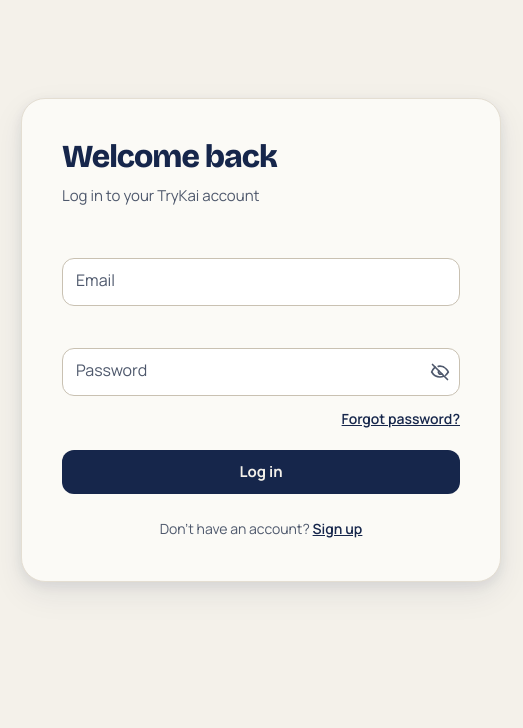
Test: Login form › keeps Sign up disabled until the terms checkbox is ticked
Click the button "Sign up" at [338, 529], box [313,519,362,538]
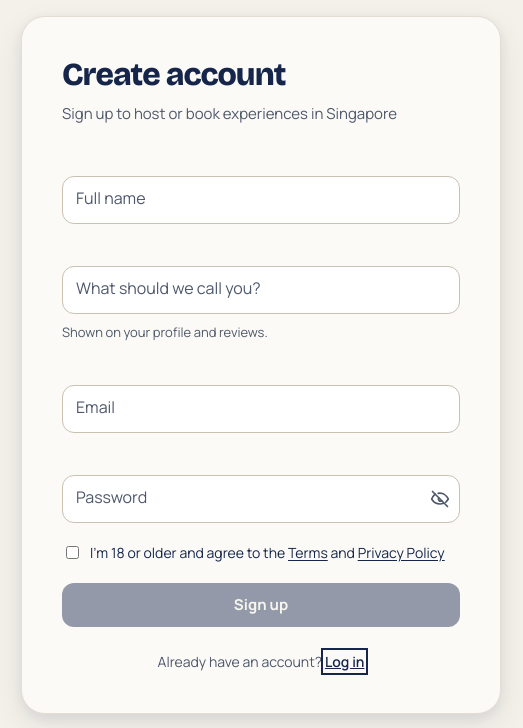
Check: the button "Sign up" is disabled, box [62,583,460,627]
Click the checkbox labelled "I'm 18 or older and agree to the Terms and Privacy Policy" at [72, 552], box [66,546,79,559]
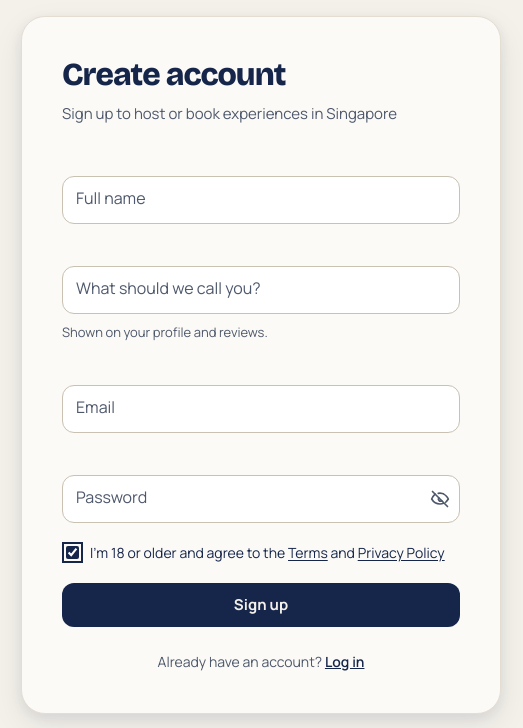
Check: the button "Sign up" is enabled, box [62,583,460,627]
